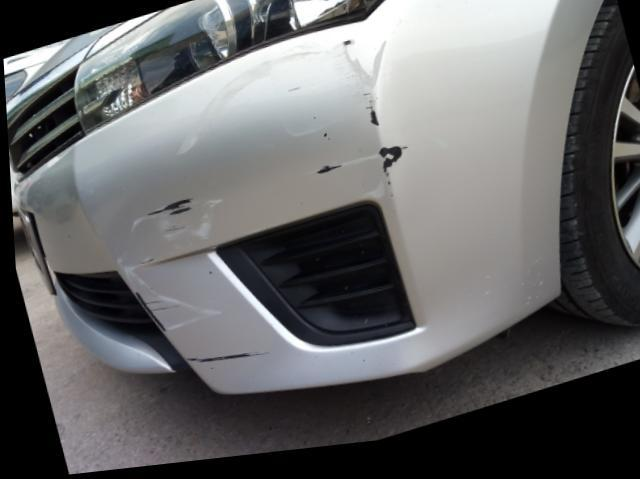scratch: (165, 44, 403, 205), (112, 191, 222, 335), (180, 354, 269, 368)
